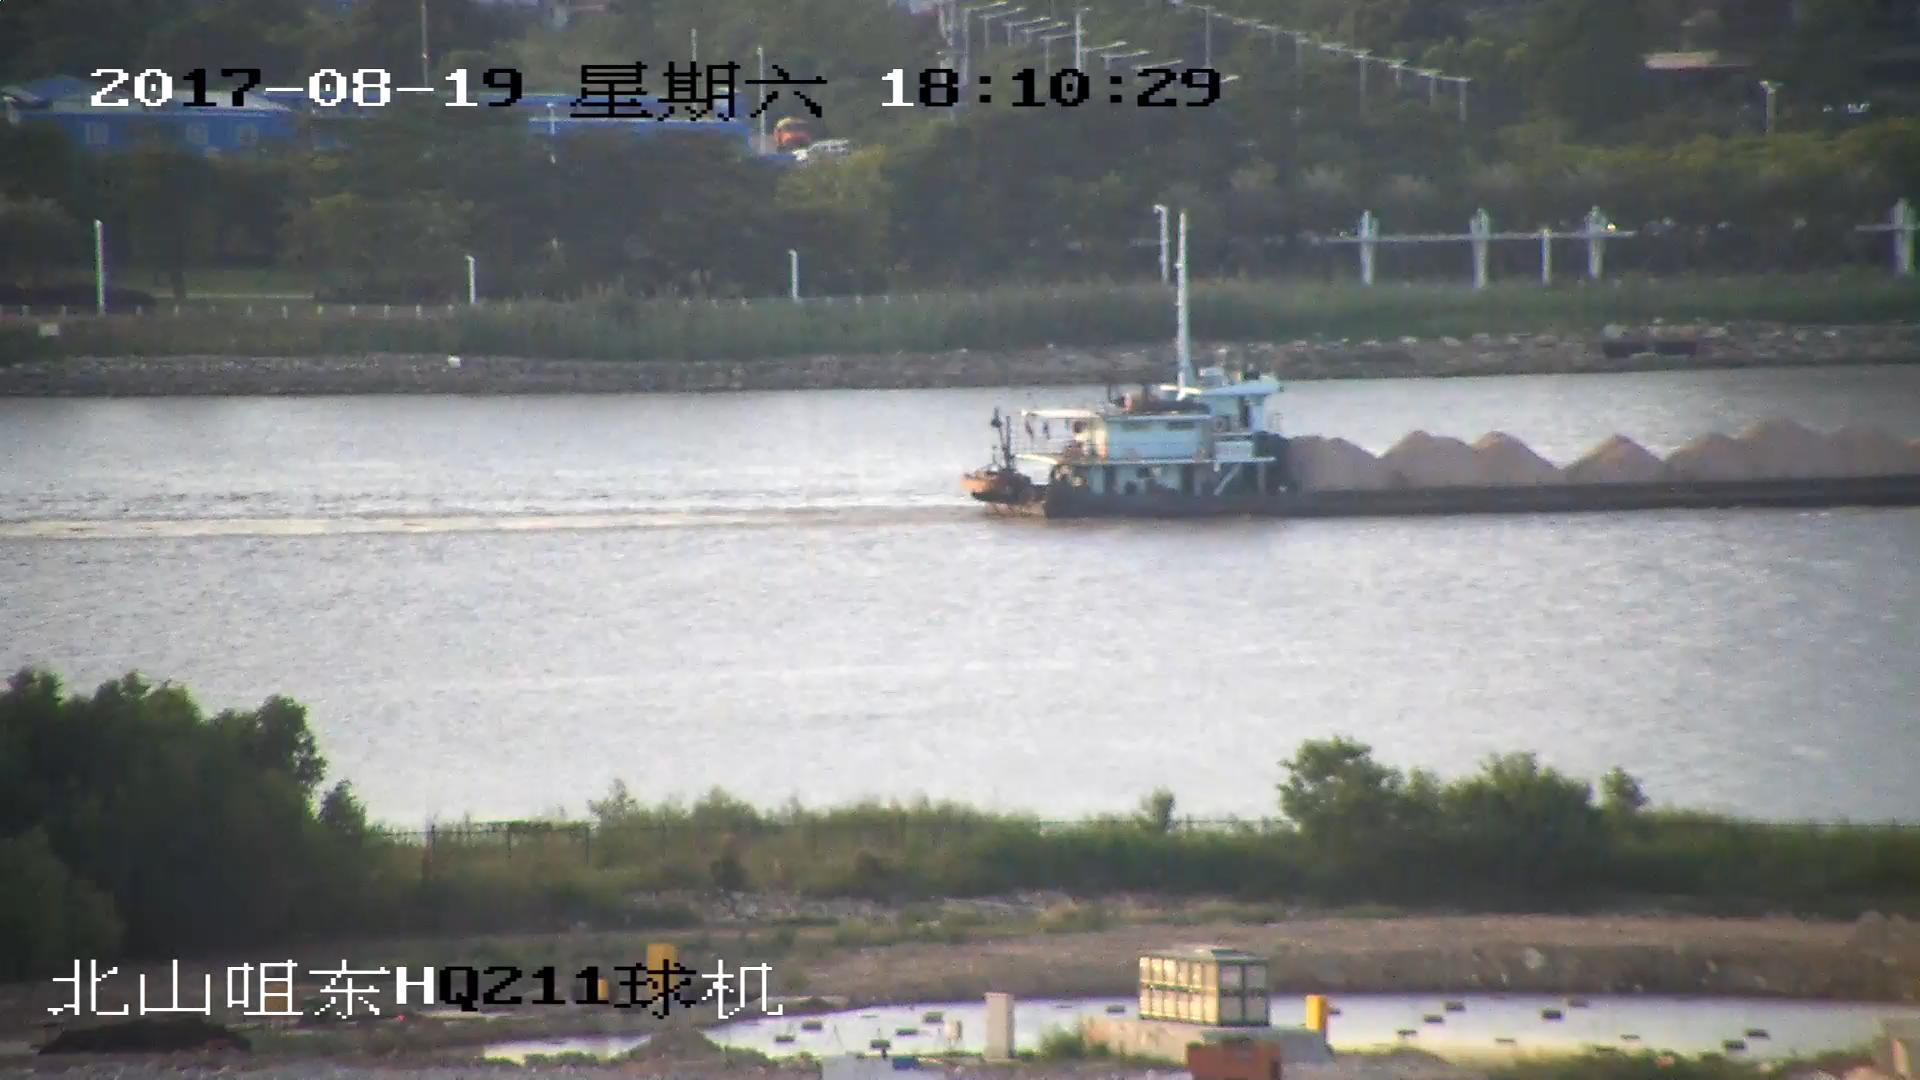Ship: (967, 208, 1920, 524)
